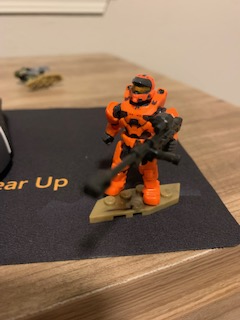spartan: (101, 74, 178, 211)
